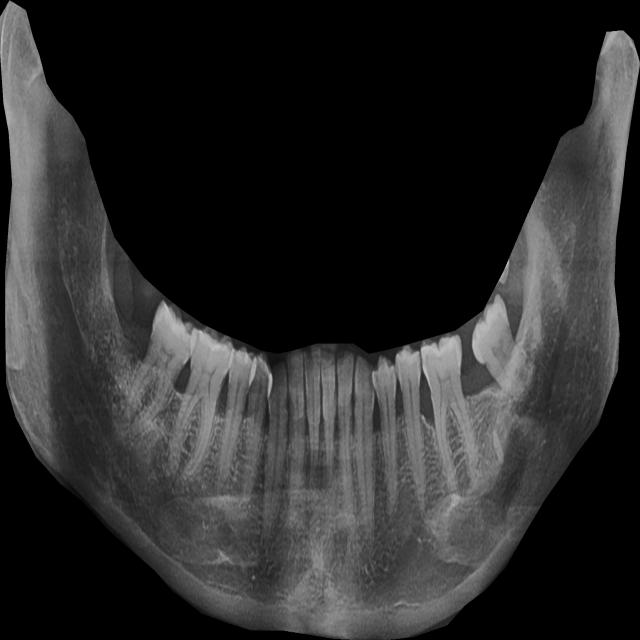mandibula: (0, 0, 640, 640)
